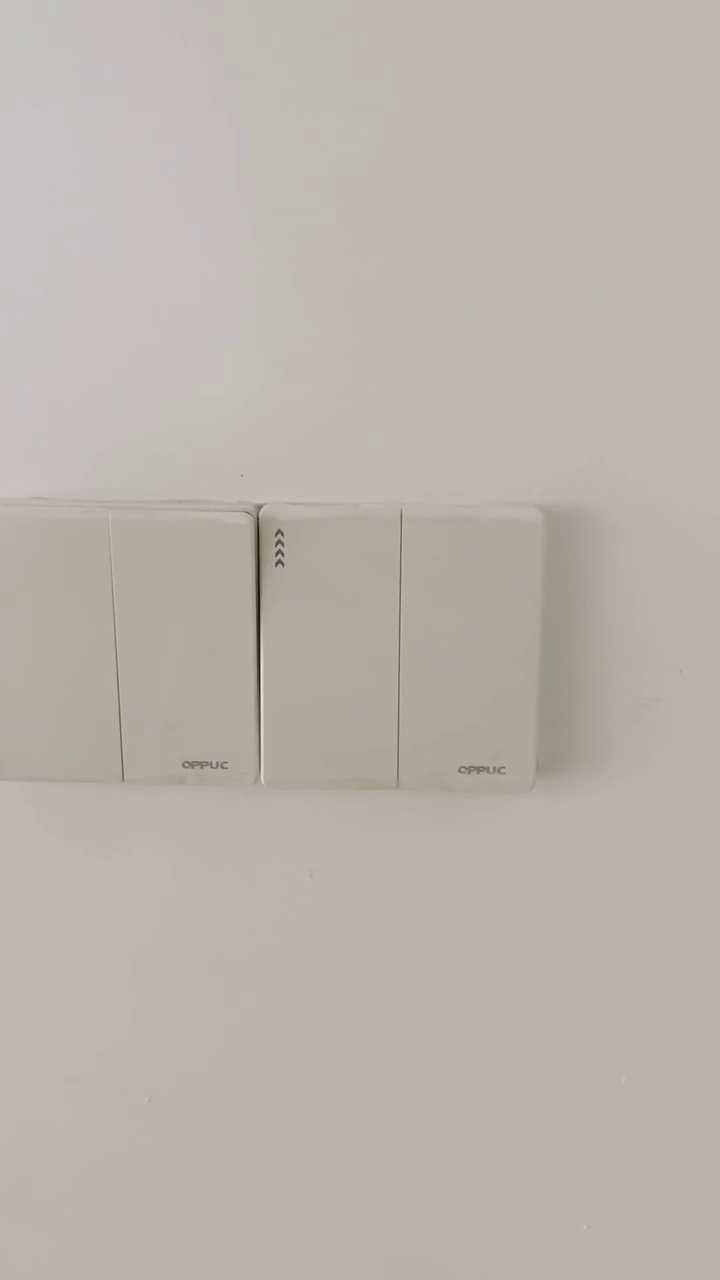button1: (115, 508, 259, 784), (265, 512, 395, 784), (406, 513, 534, 785), (0, 508, 116, 778)
